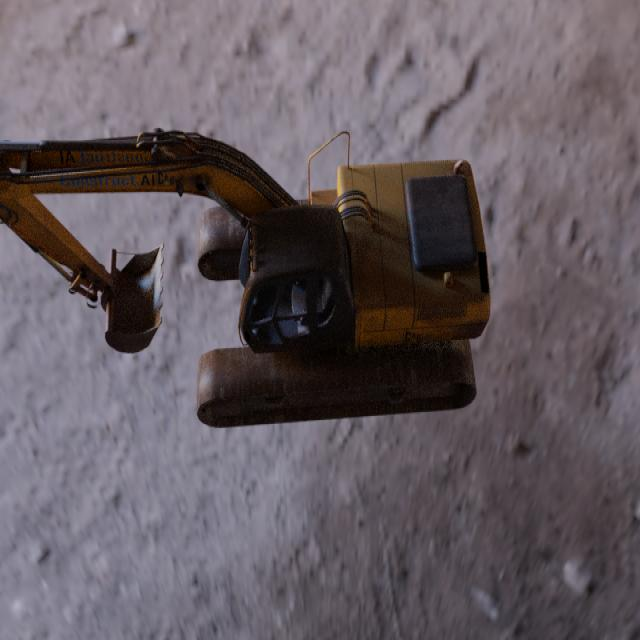excavator: (0, 127, 492, 428)
